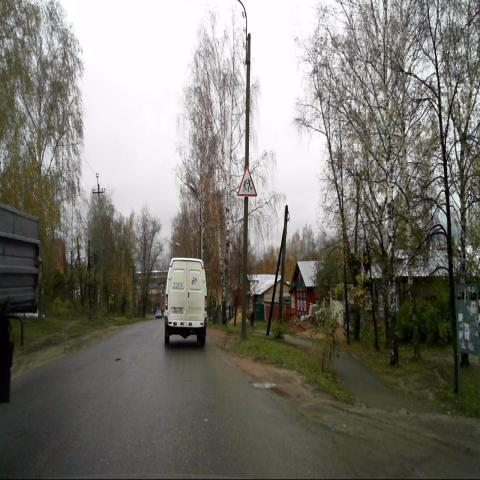1_23: (238, 165, 258, 198)
